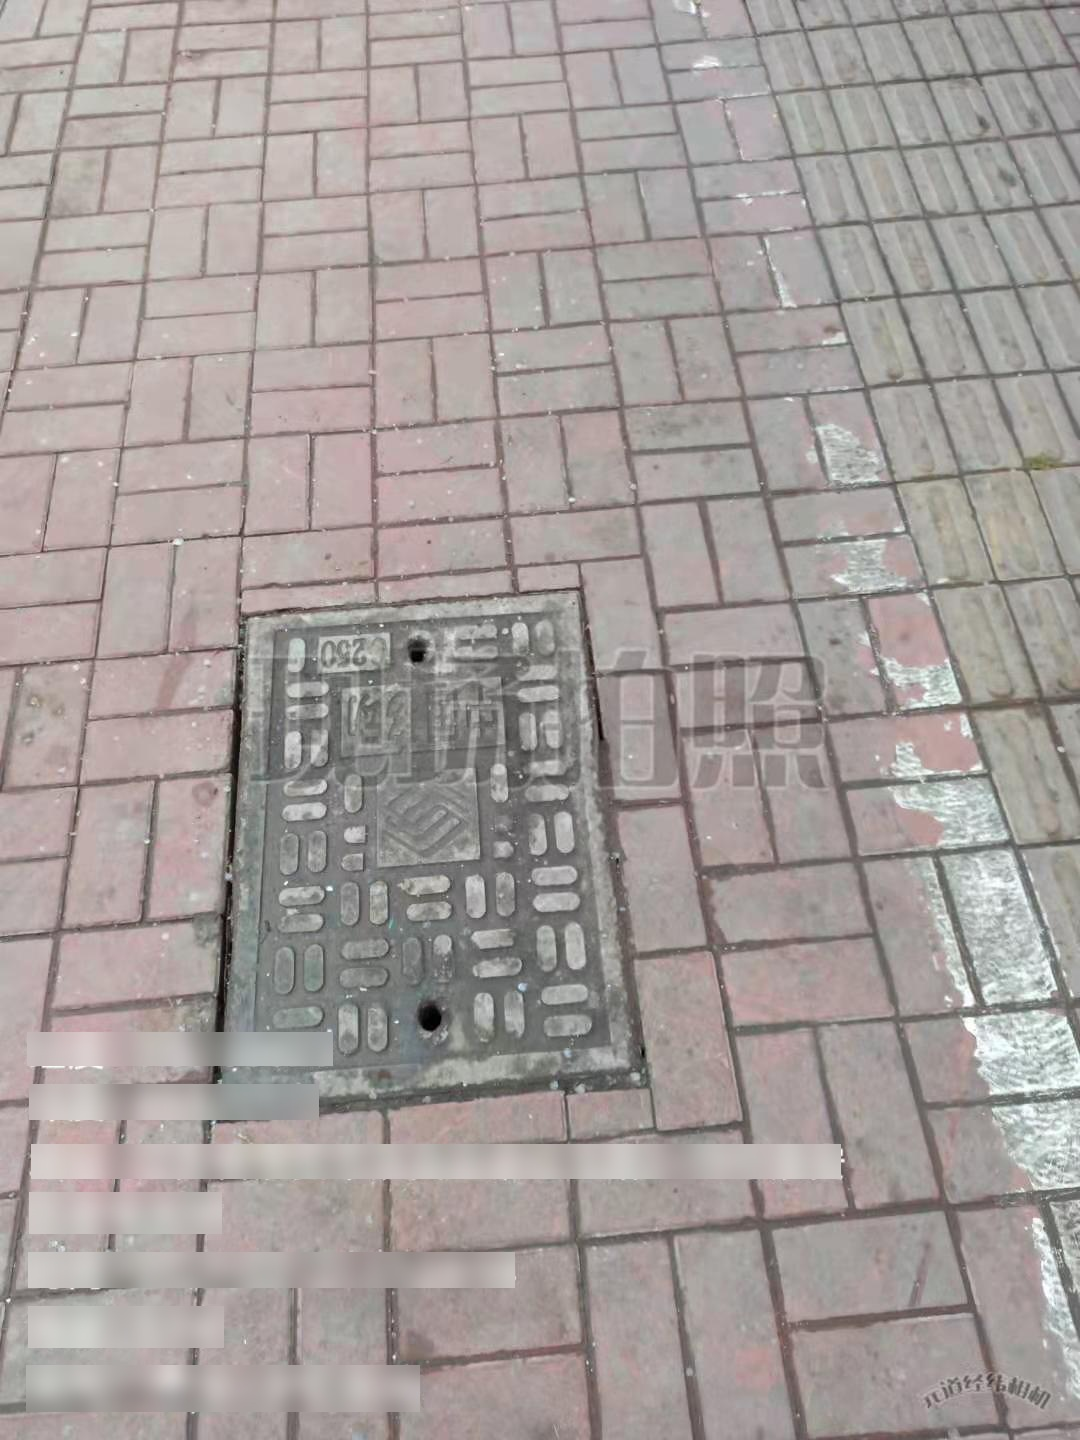good: (208, 590, 646, 1125)
